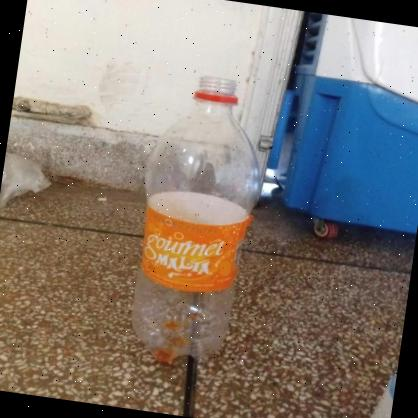bottle: (110, 63, 282, 383)
label: (130, 195, 252, 302)
